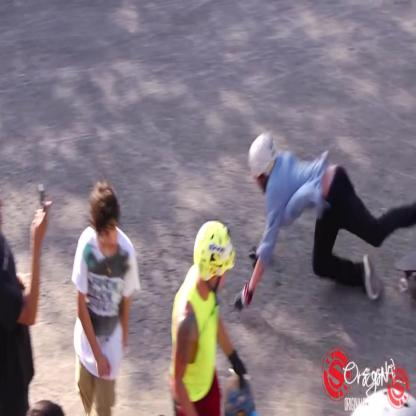Fall_Down: (231, 135, 415, 315)
